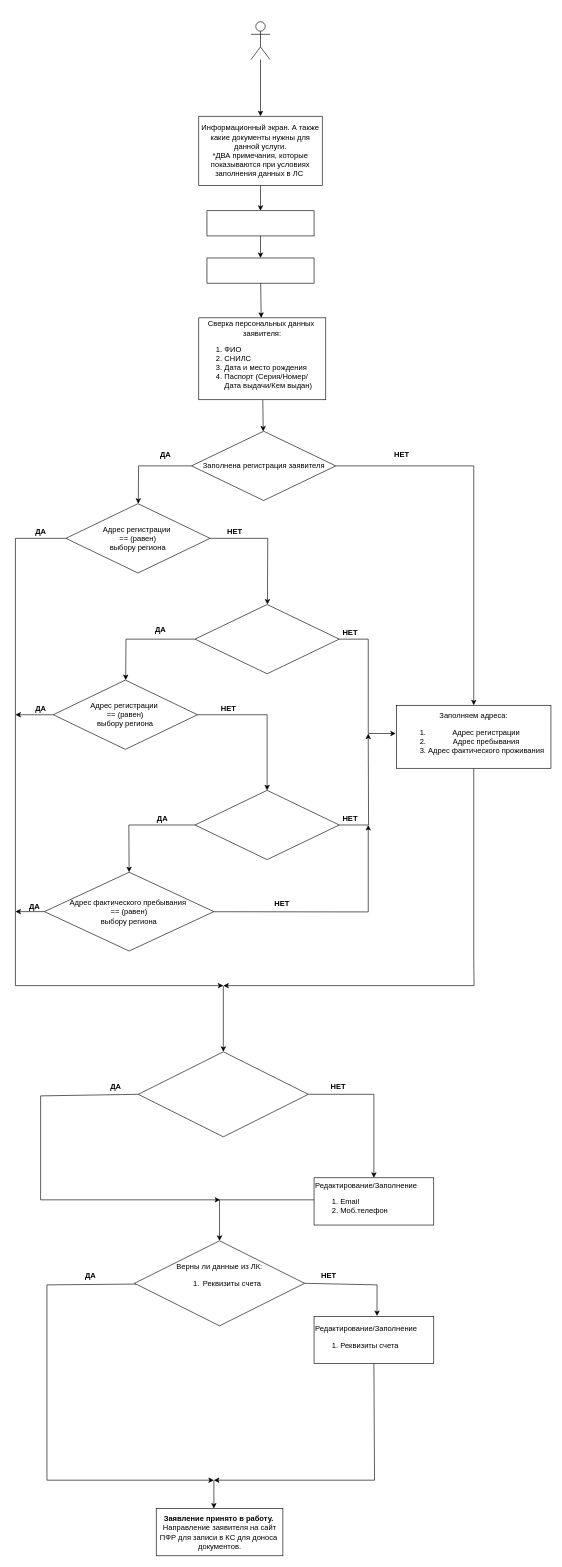
Some shapes in this 562 by 1567 pixel diagram are drawn without their labels. Here are the shapes that lost their labels. From the top down, the box of each, then its label:
(250, 21, 270, 60): Заявитель с валидной и подтвержденной УЗ
(206, 210, 314, 236): Выбор региона
(206, 257, 314, 283): Выбор категории получателя
(194, 604, 339, 674): Заполнен адрес пребывания
(194, 790, 339, 860): Заполнен адрес фактического пребывания?
(138, 1051, 308, 1137): Верны ли данные из ЛК: Email Моб. телефон
